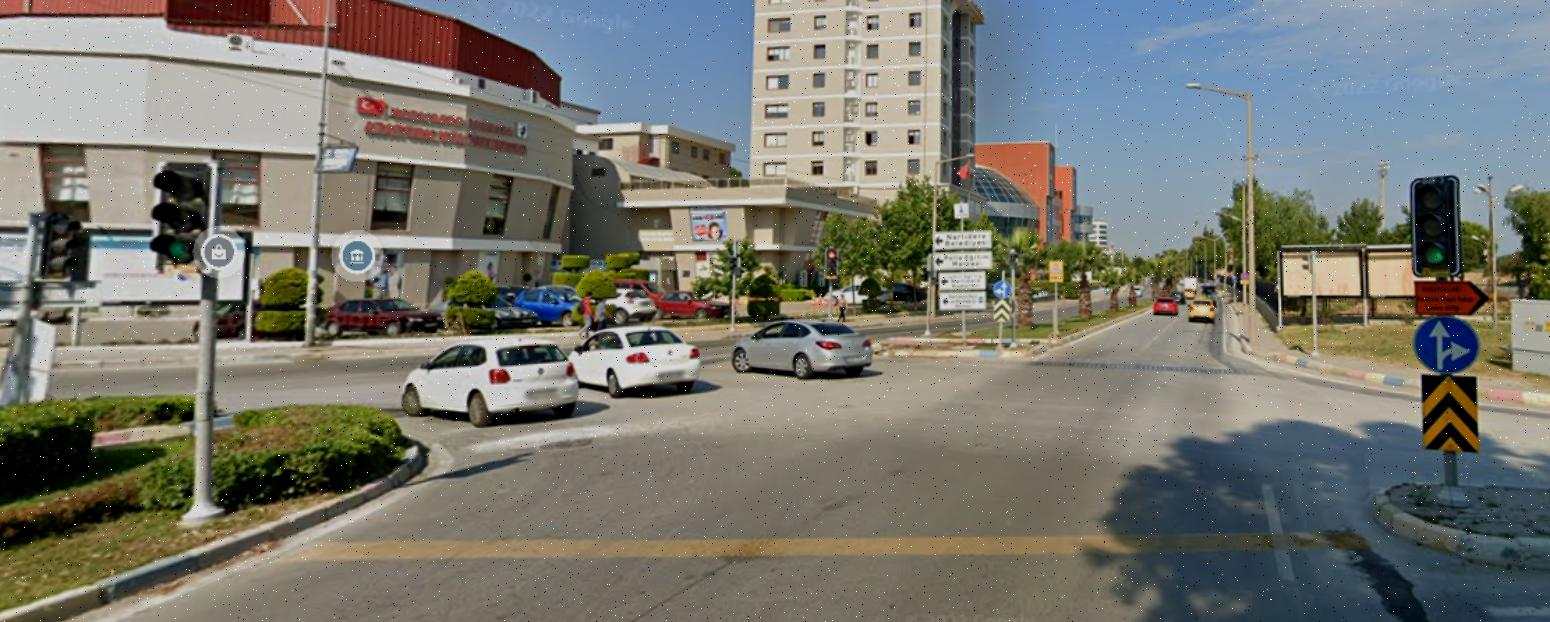greenlight: (146, 152, 219, 270), (1404, 170, 1466, 280)
